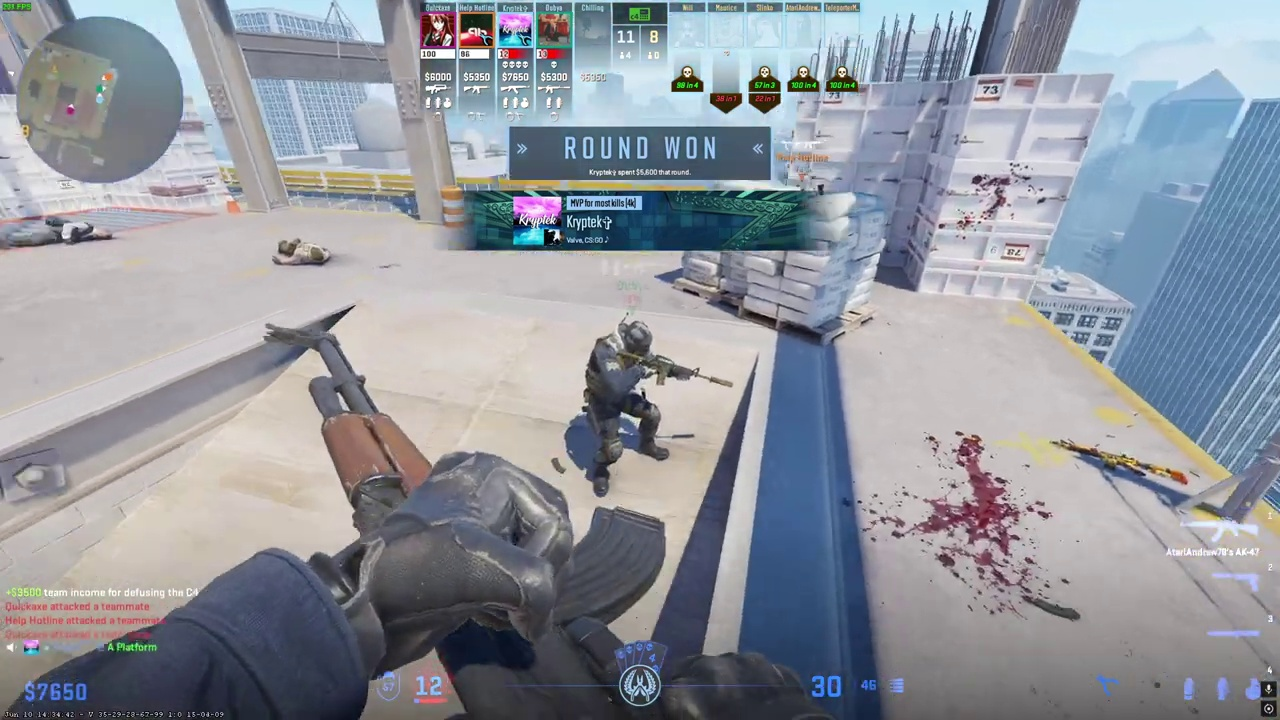CT: (583, 321, 676, 492)
